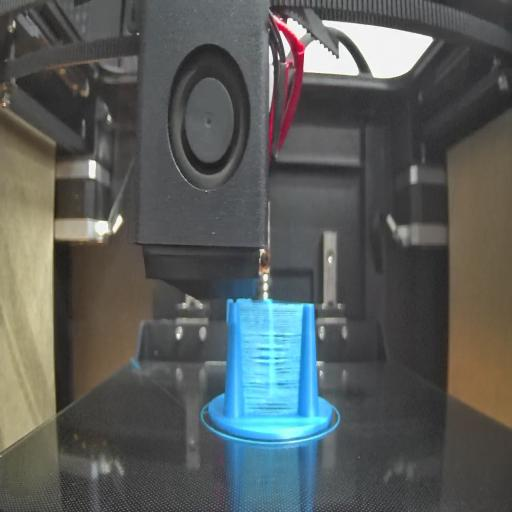stringing: (241, 299, 304, 414)
